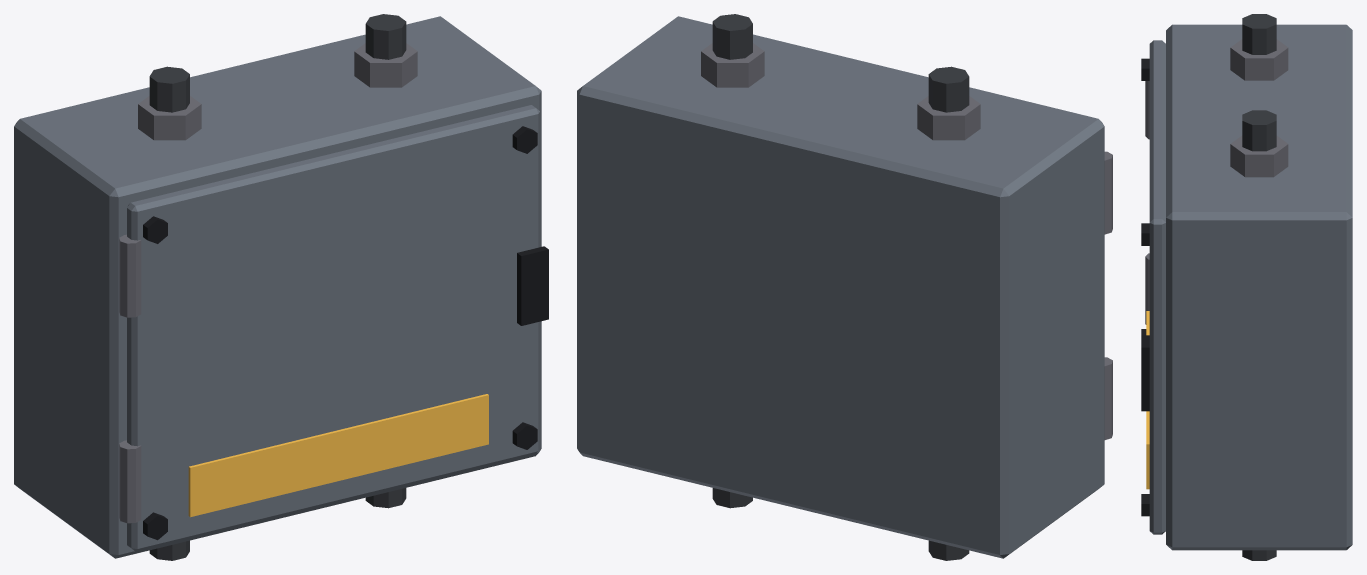
Rendered from junction_box.glb.
3 views of the same model, side by side, from view 1: azimuth 30°, elevation 25°; view 2: azimuth 150°, elevation 25°; view 3: azimuth 270°, elevation 25° (orthographic). The views are drawn at different scales.
Parts seen in each view (by area): view 1: JunctionBoxBody; view 2: JunctionBoxBody; view 3: JunctionBoxBody.
Boxes of the visible parts, <box> form: JunctionBoxBody: <box>14,14,548,560</box>; JunctionBoxBody: <box>577,14,1112,560</box>; JunctionBoxBody: <box>1141,14,1352,560</box>.
Bounding box in the file's own units: 0.22 × 0.232 × 0.102.
